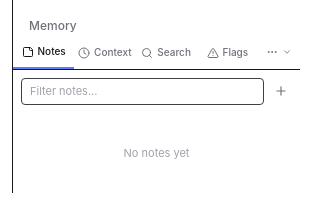
Test: MemoryPanel › main component › switches to Context tab when clicked
Click the button "Context". click: (105, 52)
box: [74,36,136,69]
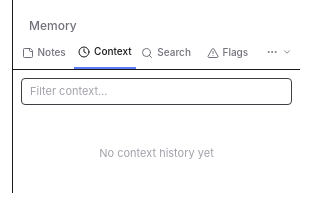
Expected: the field with placeholder "Filter context..." is shown, [21,78,292,104]
